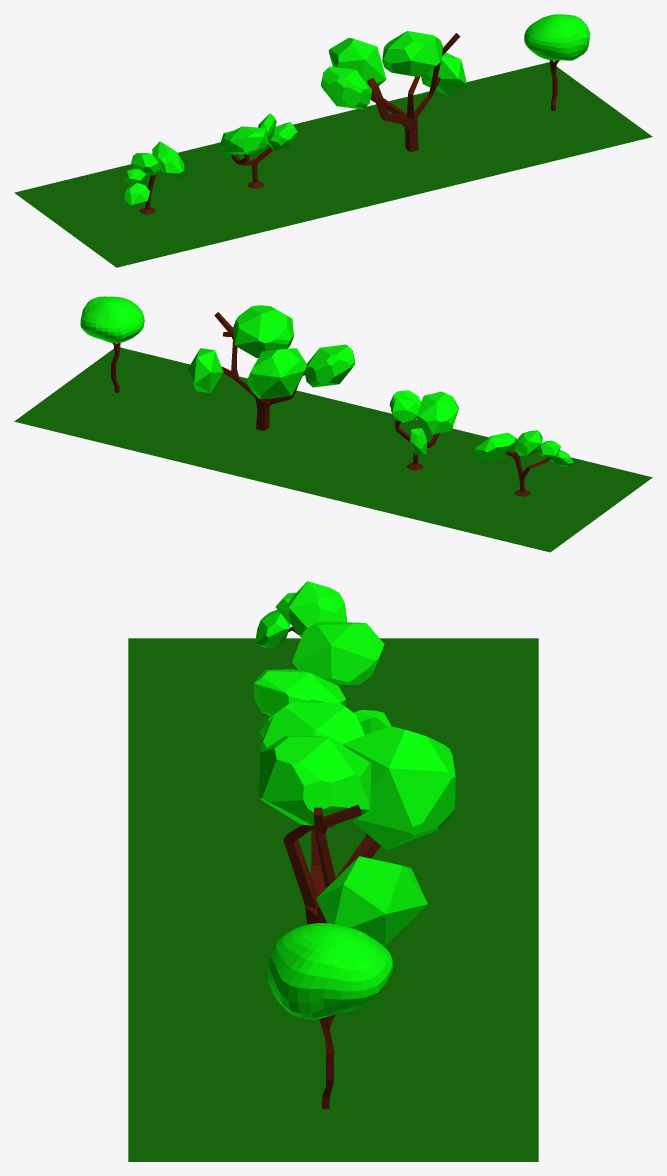
File: pohon low.obj
3 views of the same model, one above another, from view 1: azimuth 30°, elevation 25°; view 2: azimuth 150°, elevation 25°; view 3: azimuth 270°, elevation 25° (orthographic). The views are drawn at different scales.
Visible parts, largest first — view 1: grass, Sphere, Icosphere.011, tree_3, Icosphere.013, Icosphere.009, Icosphere.015, tree_1.001, Icosphere.007, tree_1.008, tree_1, Icosphere.005 (+1 smaller); view 2: grass, Icosphere.011, Sphere, Icosphere.013, Icosphere.009, tree_1.001, tree_3, Icosphere.015, Icosphere.007, tree_1.006, Icosphere.005, tree_2 (+2 smaller); view 3: grass, Icosphere.013, Sphere, Icosphere.011, Icosphere.015, Icosphere.007, tree_3, Icosphere.009, tree_1.001, Icosphere.005, Icosphere.003.
Boxes of the visible parts, x1=… form: grass: x1=14, y1=62, x2=652, y2=267; Sphere: x1=524, y1=14, x2=590, y2=60; Icosphere.011: x1=382, y1=31, x2=442, y2=76; tree_3: x1=367, y1=33, x2=460, y2=151; Icosphere.013: x1=328, y1=38, x2=386, y2=86; Icosphere.009: x1=321, y1=66, x2=371, y2=109; Icosphere.015: x1=421, y1=52, x2=467, y2=95; tree_1.001: x1=224, y1=126, x2=267, y2=154; Icosphere.007: x1=152, y1=141, x2=184, y2=179; tree_1.008: x1=267, y1=122, x2=297, y2=151; tree_1: x1=231, y1=146, x2=273, y2=188; Icosphere.005: x1=131, y1=153, x2=161, y2=175; grass: x1=14, y1=347, x2=652, y2=552; Icosphere.011: x1=233, y1=305, x2=293, y2=357; Sphere: x1=80, y1=296, x2=144, y2=343; Icosphere.013: x1=247, y1=348, x2=306, y2=398; Icosphere.009: x1=304, y1=344, x2=354, y2=387; tree_1.001: x1=416, y1=391, x2=458, y2=434; tree_3: x1=214, y1=312, x2=304, y2=430; Icosphere.015: x1=187, y1=348, x2=223, y2=393; Icosphere.007: x1=474, y1=432, x2=517, y2=461; tree_1.006: x1=391, y1=397, x2=418, y2=422; Icosphere.005: x1=514, y1=430, x2=542, y2=455; tree_2: x1=506, y1=451, x2=551, y2=496; grass: x1=128, y1=638, x2=538, y2=1161; Icosphere.013: x1=343, y1=726, x2=455, y2=849; Sphere: x1=267, y1=923, x2=393, y2=1019; Icosphere.011: x1=259, y1=736, x2=371, y2=825; Icosphere.015: x1=316, y1=856, x2=427, y2=946; Icosphere.007: x1=292, y1=621, x2=384, y2=684; tree_3: x1=283, y1=804, x2=380, y2=924; Icosphere.009: x1=260, y1=702, x2=365, y2=751; tree_1.001: x1=254, y1=669, x2=346, y2=715; Icosphere.005: x1=288, y1=581, x2=346, y2=636; Icosphere.003: x1=255, y1=609, x2=290, y2=648.
Bounding box in the file's own units: 84.42 × 17.68 × 27.97.
